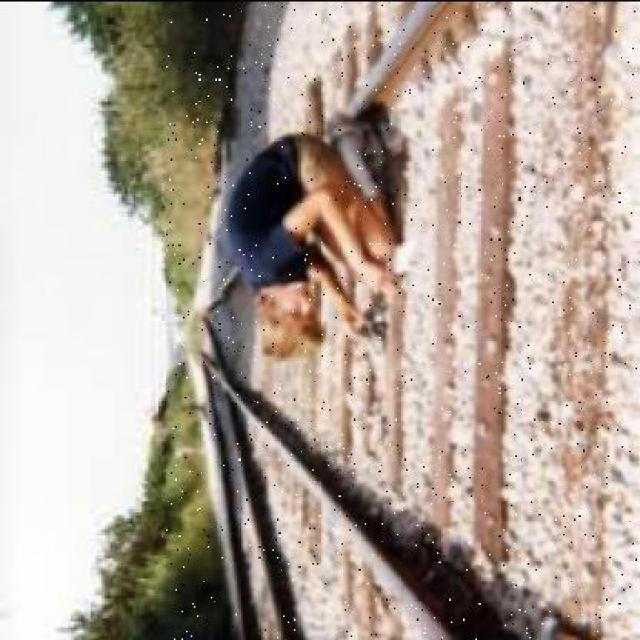danger: (223, 107, 406, 360)
rail: (167, 3, 637, 640)
